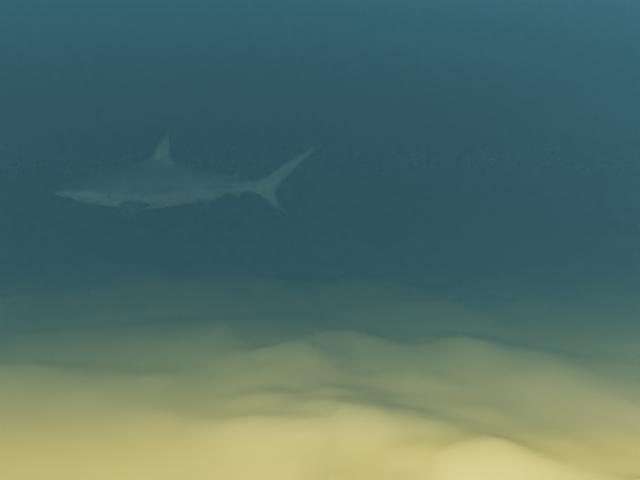Carribean Shark.001: (53, 133, 324, 221)
